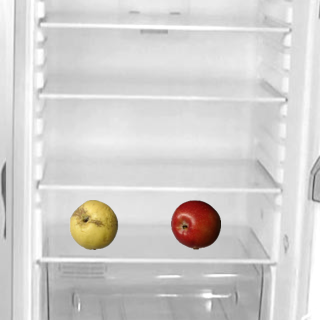Apple Braeburn: (170, 199, 220, 249)
Apple Golden 1: (68, 199, 118, 249)
